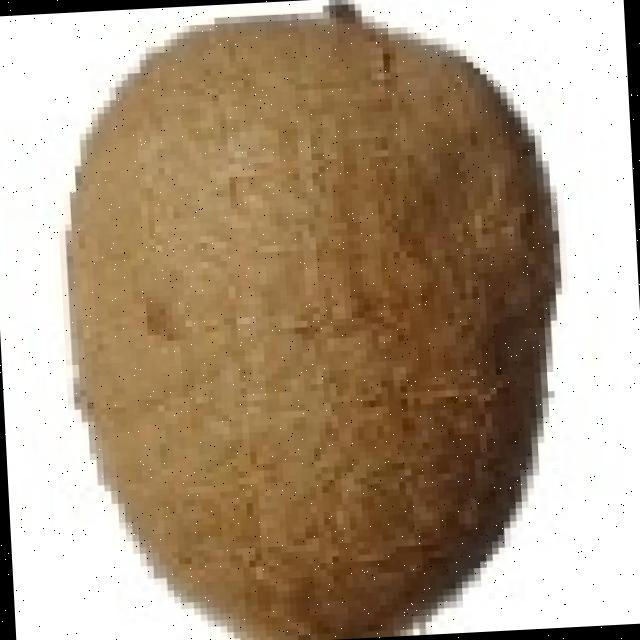kiwi: (60, 0, 543, 632)
